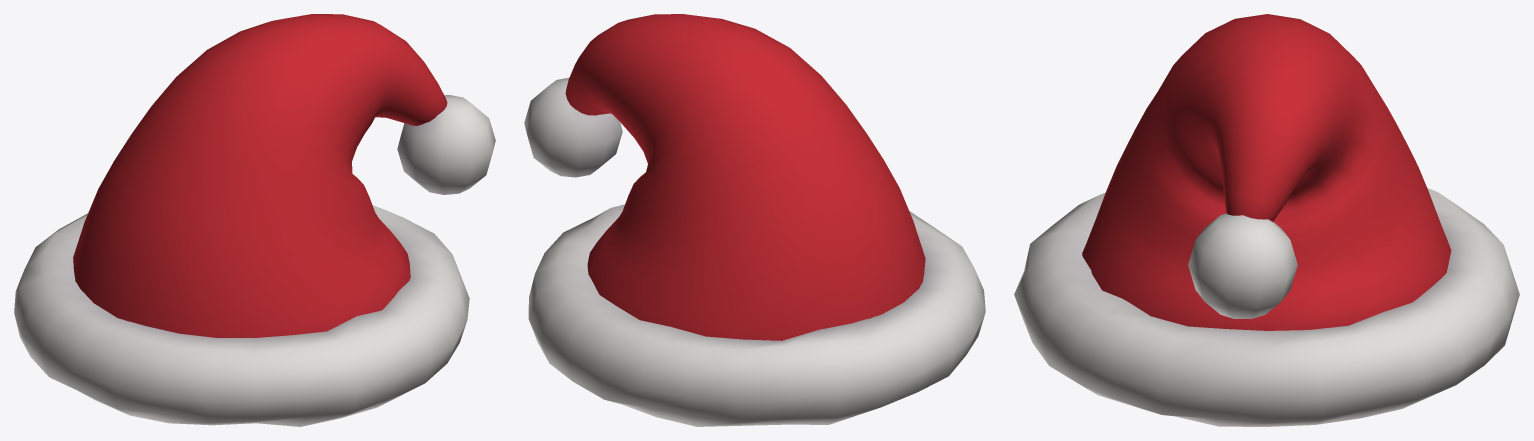
File: hat_santa.glb
3 renders of one model, left to right at view 1: azimuth 30°, elevation 25°; view 2: azimuth 150°, elevation 25°; view 3: azimuth 270°, elevation 25°, orthographic. The views are drawn at different scales.
Visible parts, largest first — view 1: hat; view 2: hat; view 3: hat.
Part boxes in pixels (left/top/right/bottom): hat: left=14, top=14, right=495, bottom=426; hat: left=524, top=14, right=985, bottom=426; hat: left=1014, top=14, right=1519, bottom=426.
Bounding box in the file's own units: 0.448 × 0.3052 × 0.4147.
